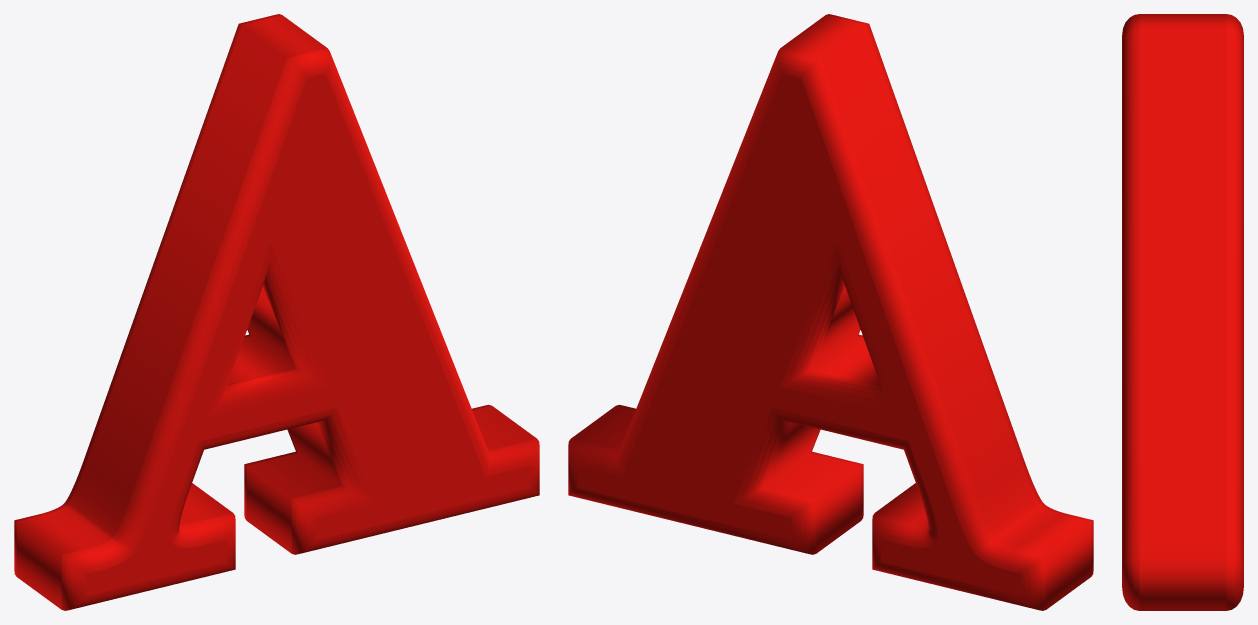
File: capital_a.fbx
3 renders of one model, left to right at view 1: azimuth 30°, elevation 25°; view 2: azimuth 150°, elevation 25°; view 3: azimuth 270°, elevation 25°, orthographic. The views are drawn at different scales.
Visible parts, largest first — view 1: Text; view 2: Text; view 3: Text.
Boxes of the visible parts, x1,y1,x2,y2 form: Text: [14, 14, 539, 610]; Text: [568, 14, 1093, 610]; Text: [1122, 14, 1243, 610].
Bounding box in the file's own units: 233 × 233 × 53.58.
